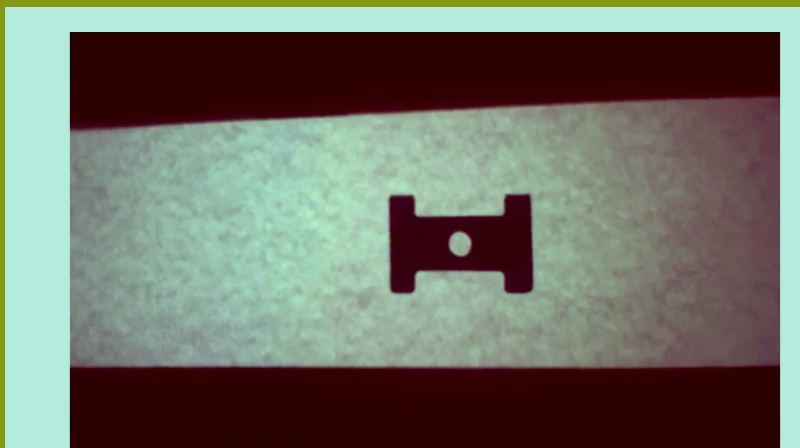O002: (383, 189, 536, 296)
